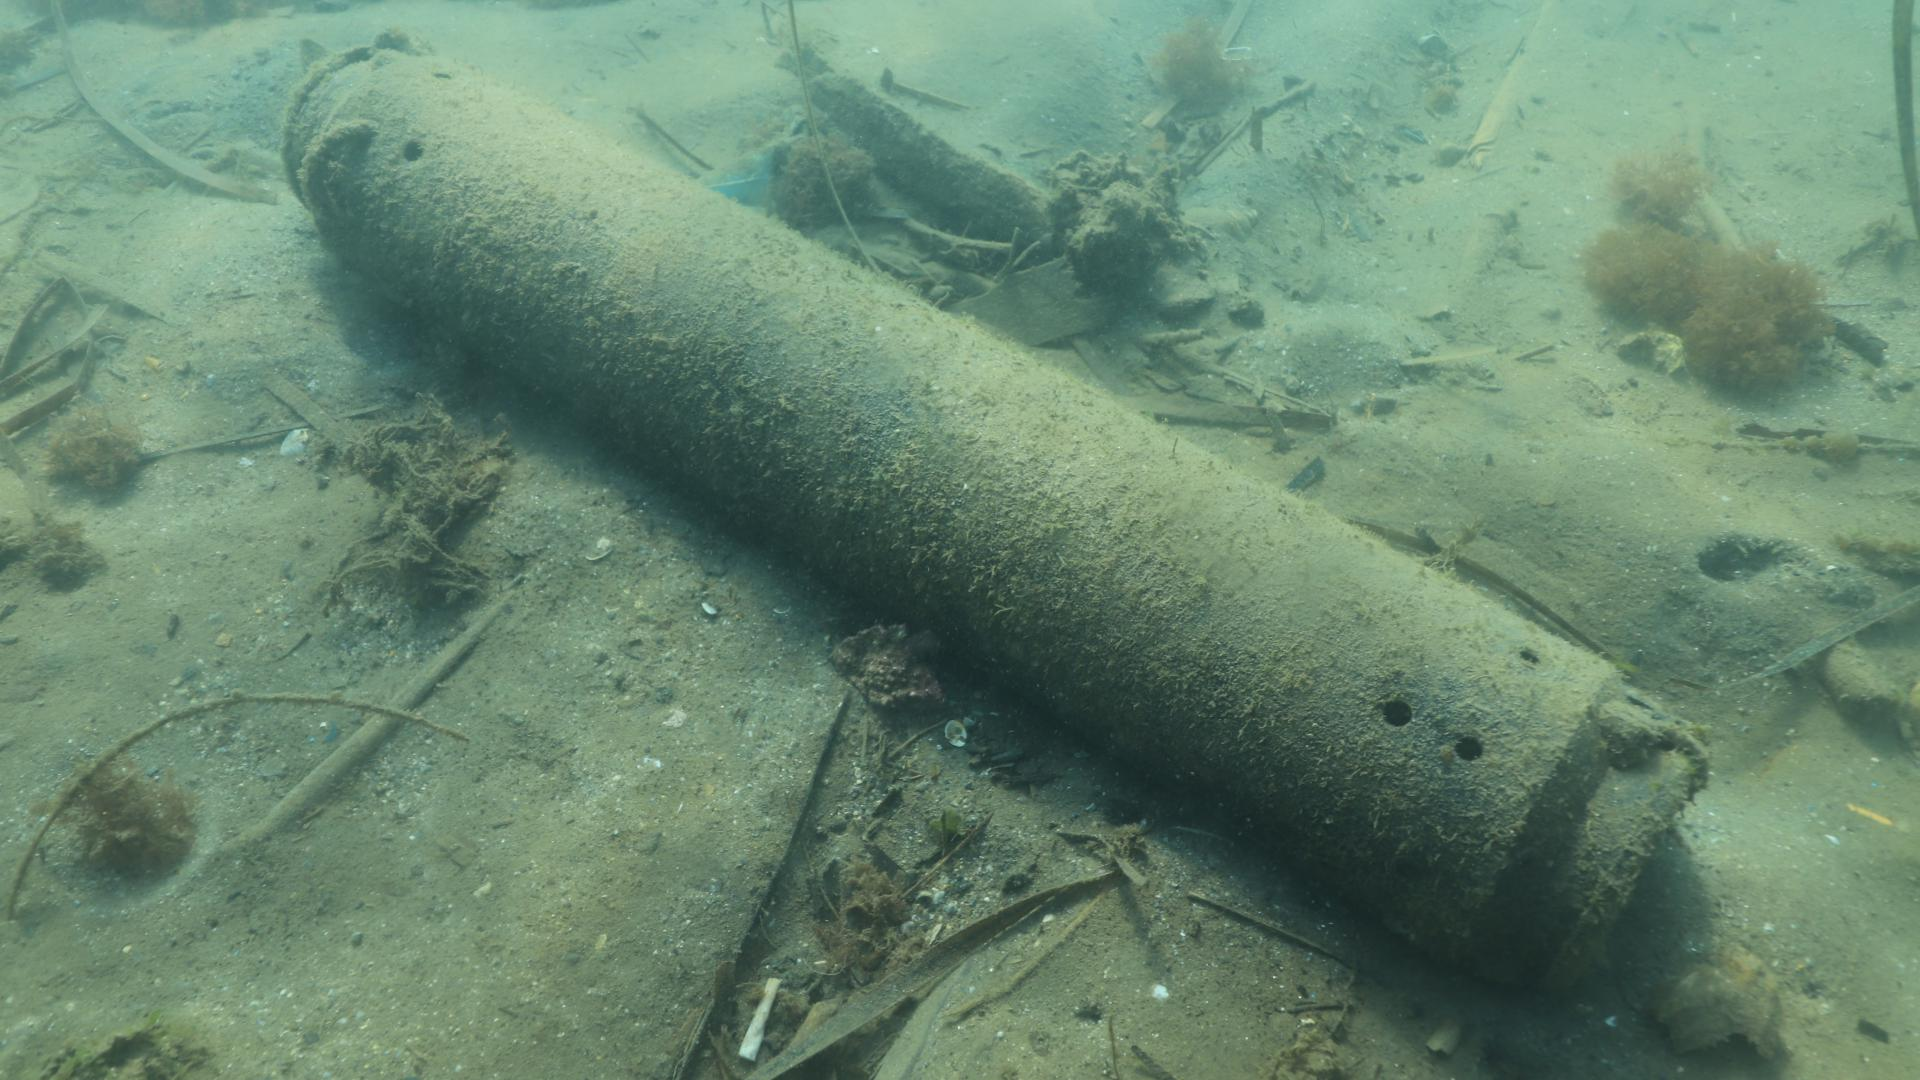eel fish trap: (278, 32, 1712, 982)
